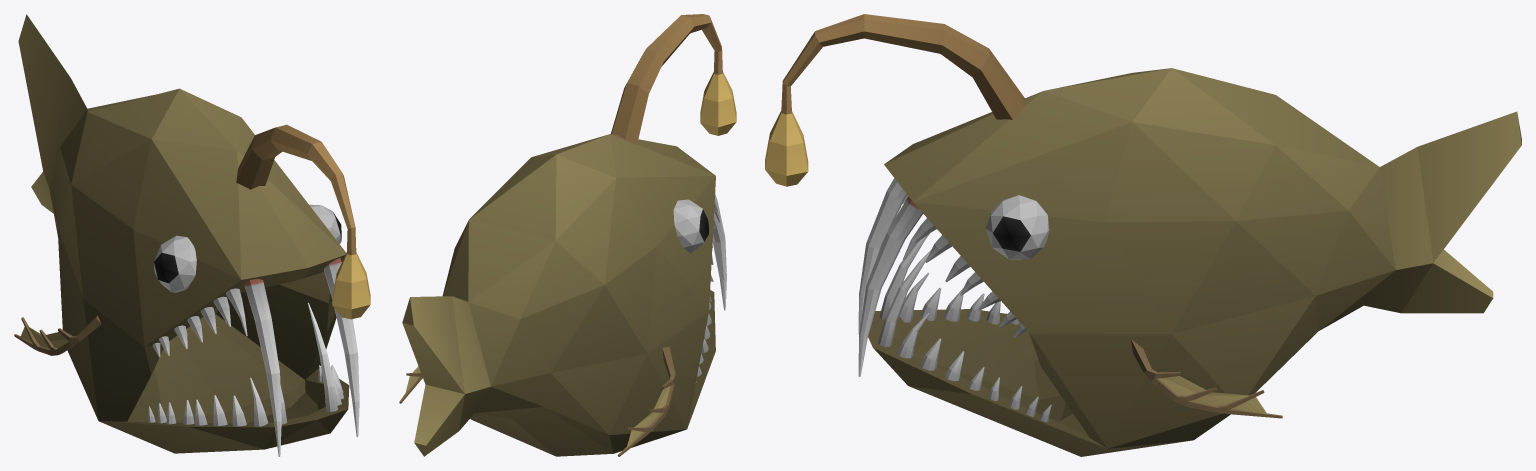
The model's file is anglerfish.glb.
The picture shows the model from 3 angles, left to right: view 1: azimuth 30°, elevation 25°; view 2: azimuth 150°, elevation 25°; view 3: azimuth 270°, elevation 25°; orthographic projection. The views are drawn at different scales.
Parts seen in each view (by area): view 1: anglerfish_merged; view 2: anglerfish_merged; view 3: anglerfish_merged.
Boxes of the visible parts, bbox=[...] form: anglerfish_merged: bbox=[14, 14, 370, 456]; anglerfish_merged: bbox=[399, 14, 736, 456]; anglerfish_merged: bbox=[765, 14, 1521, 456].
Size of the model in its own units: 4.14 by 6 by 9.9.
Materials: 2 (2 with a texture image).
